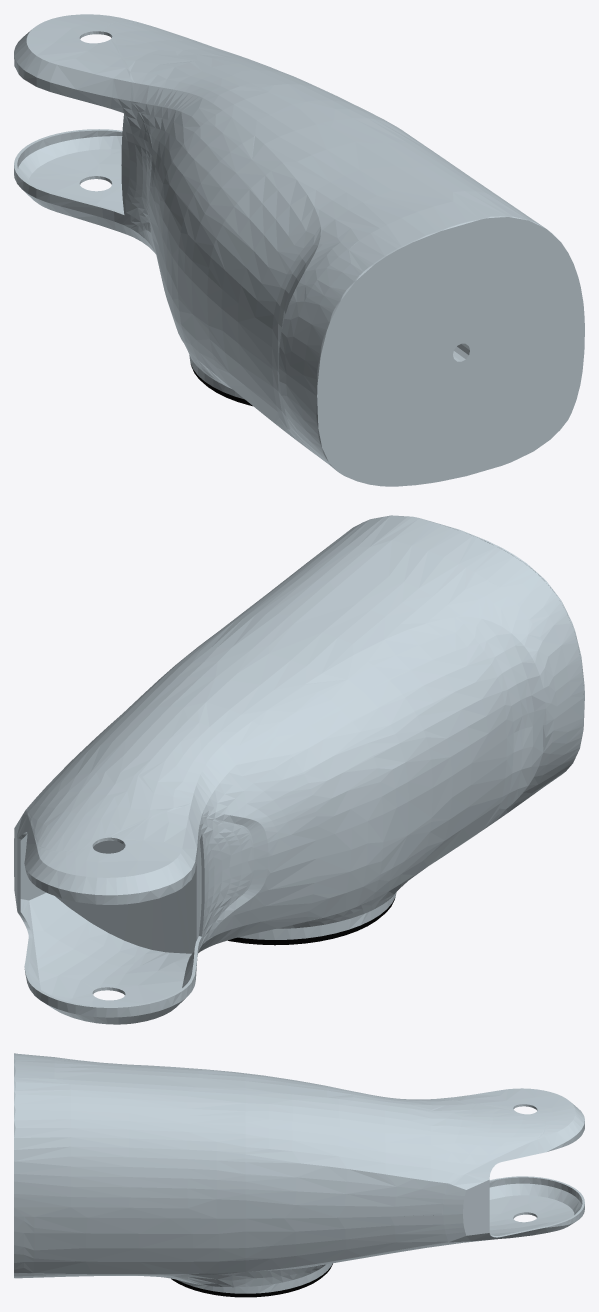
File: left_hip_yaw_link.dae
3 renders of one model, top to bottom at view 1: azimuth 30°, elevation 25°; view 2: azimuth 150°, elevation 25°; view 3: azimuth 270°, elevation 25°, orthographic. The views are drawn at different scales.
Visible parts, largest first — view 1: left_hip_yaw_link; view 2: left_hip_yaw_link; view 3: left_hip_yaw_link.
Boxes of the visible parts, x1,y1,x2,y2 form: left_hip_yaw_link: (14, 14, 584, 486); left_hip_yaw_link: (14, 515, 584, 1024); left_hip_yaw_link: (14, 1053, 584, 1297).
Bounding box in the file's own units: 0.1451 × 0.1298 × 0.3544.
